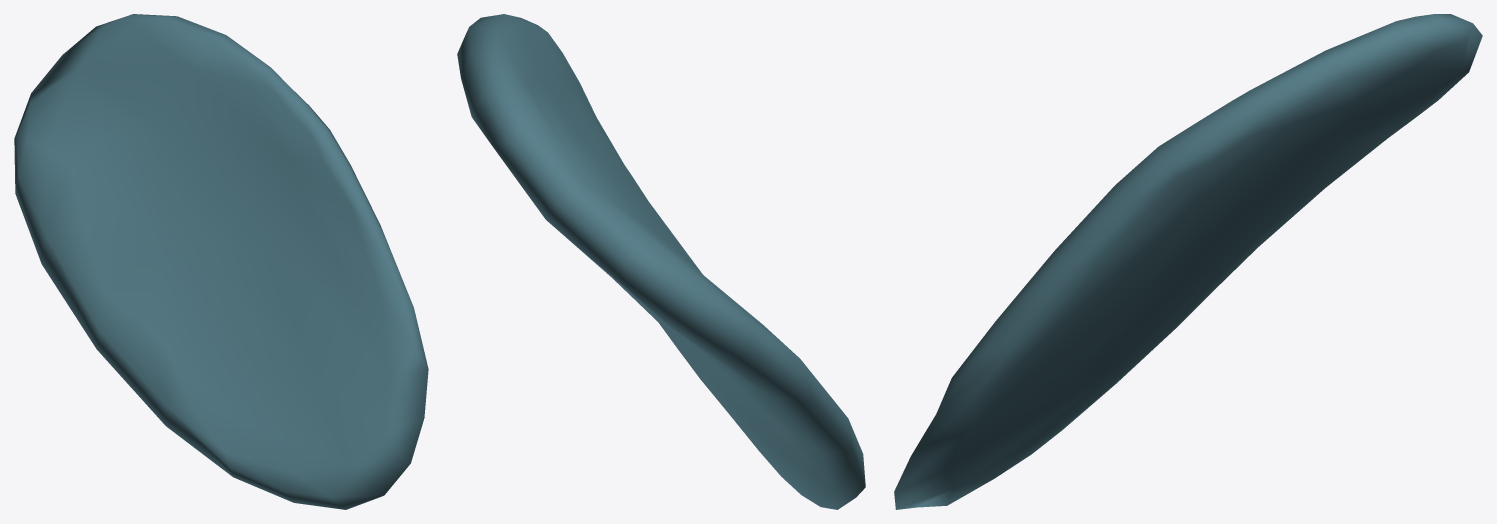
File: Extensor_digitorum-middle_phalanx-2d_finger.l_Generated_Mesh_Fr.glb
3 views of the same model, side by side, from view 1: azimuth 30°, elevation 25°; view 2: azimuth 150°, elevation 25°; view 3: azimuth 270°, elevation 25° (orthographic). The views are drawn at different scales.
Parts seen in each view (by area): view 1: Extensor_digitorum-middle_phalanx-2d_finger.l_Generated_Mesh; view 2: Extensor_digitorum-middle_phalanx-2d_finger.l_Generated_Mesh; view 3: Extensor_digitorum-middle_phalanx-2d_finger.l_Generated_Mesh.
Boxes of the visible parts, x1=… form: Extensor_digitorum-middle_phalanx-2d_finger.l_Generated_Mesh: x1=14, y1=14, x2=428, y2=509; Extensor_digitorum-middle_phalanx-2d_finger.l_Generated_Mesh: x1=457, y1=14, x2=865, y2=509; Extensor_digitorum-middle_phalanx-2d_finger.l_Generated_Mesh: x1=894, y1=14, x2=1482, y2=509.
Size of the model in its own units: 0.00397 by 0.00543 by 0.00598.
